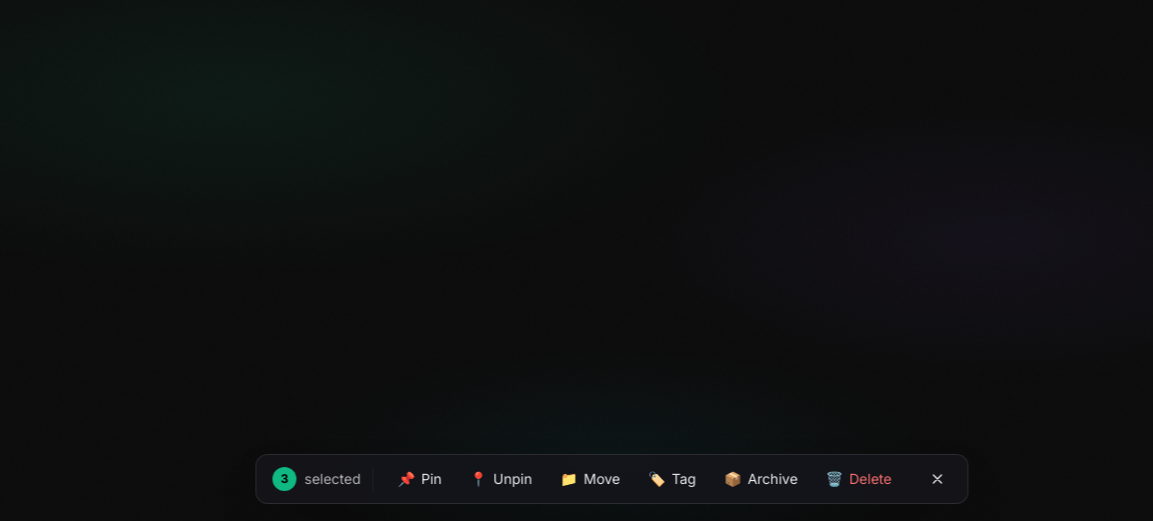
Test: BulkActionBar › move to folder menu › should show "No folders" when folders array is empty
This screenshot has width=1153, height=521.
Step 1. Click the button titled "Move to folder" → (590, 479), box [548,463,632,495]
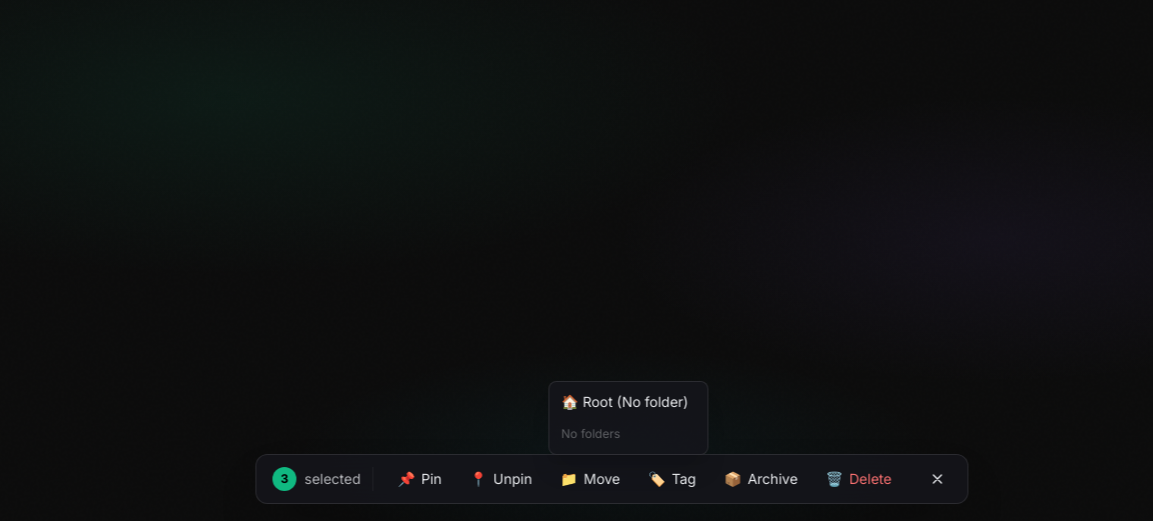
Expected: the text "No folders" is shown, [561,426,620,441]
